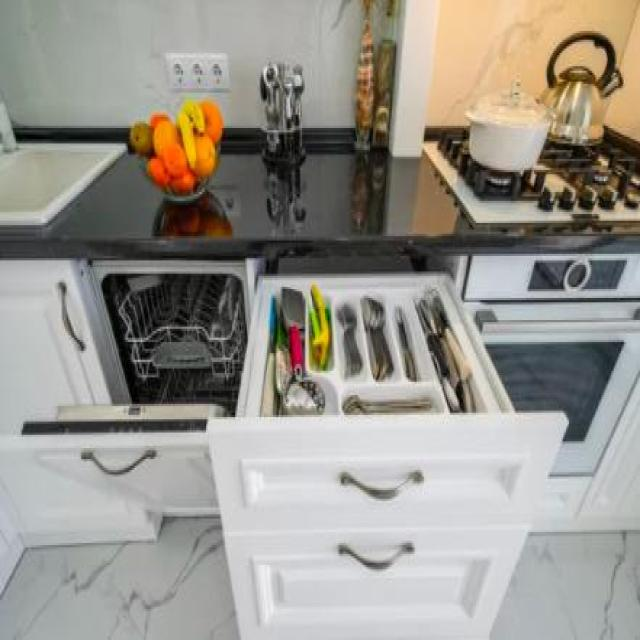dishwasher: (0, 245, 267, 574)
